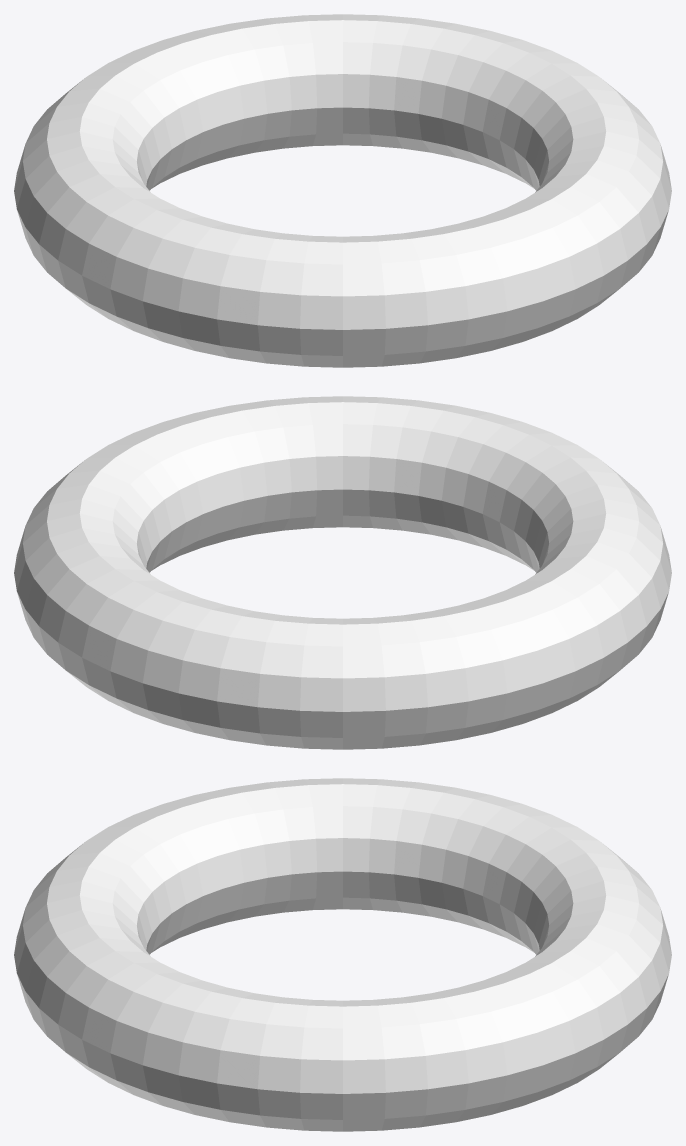
File: Shockwave.obj
The picture shows the model from 3 angles, top to bottom: view 1: azimuth 30°, elevation 25°; view 2: azimuth 150°, elevation 25°; view 3: azimuth 270°, elevation 25°; orthographic projection.
Visible parts, largest first — view 1: トーラス; view 2: トーラス; view 3: トーラス.
Boxes of the visible parts, bbox=[...] form: トーラス: bbox=[14, 14, 671, 367]; トーラス: bbox=[14, 396, 671, 749]; トーラス: bbox=[14, 778, 671, 1131].
Bounding box in the file's own units: 2.5 × 0.5 × 2.5.
1 material, 1 textured.
